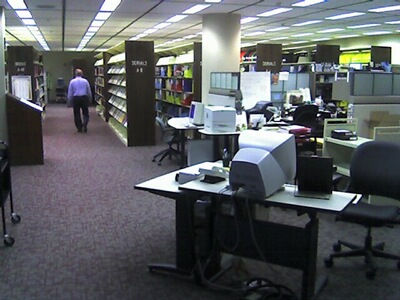person: (65, 68, 96, 135)
